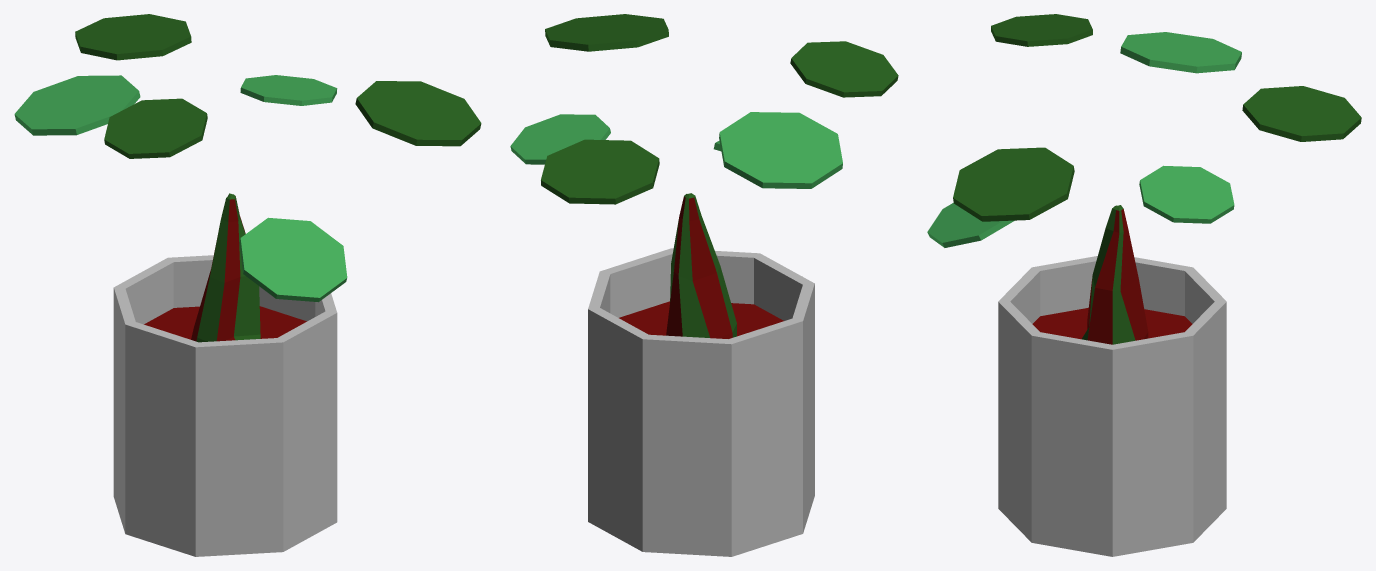
The model's file is LillePlante.fbx.
3 renders of one model, left to right at view 1: azimuth 30°, elevation 25°; view 2: azimuth 150°, elevation 25°; view 3: azimuth 270°, elevation 25°, orthographic. The views are drawn at different scales.
Visible parts, largest first — view 1: Plante; view 2: Plante; view 3: Plante.
Boxes of the visible parts, x1,y1,x2,y2 form: Plante: (14,14,481,556); Plante: (510,14,898,556); Plante: (927,14,1361,556).
Bounding box in the file's own units: 54.07 × 63.14 × 56.7.
